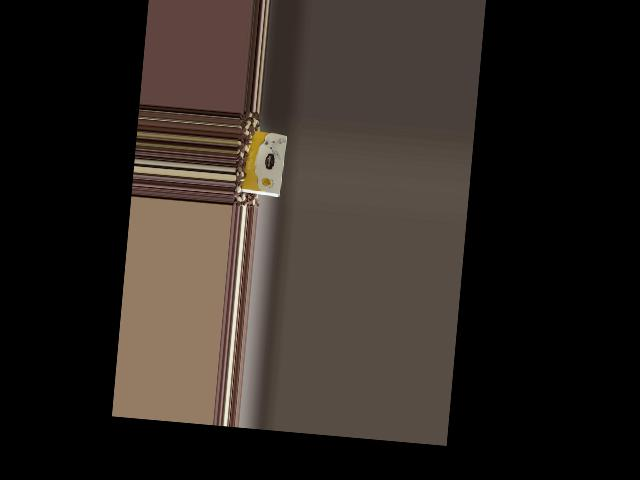chocolate: (238, 126, 289, 200)
